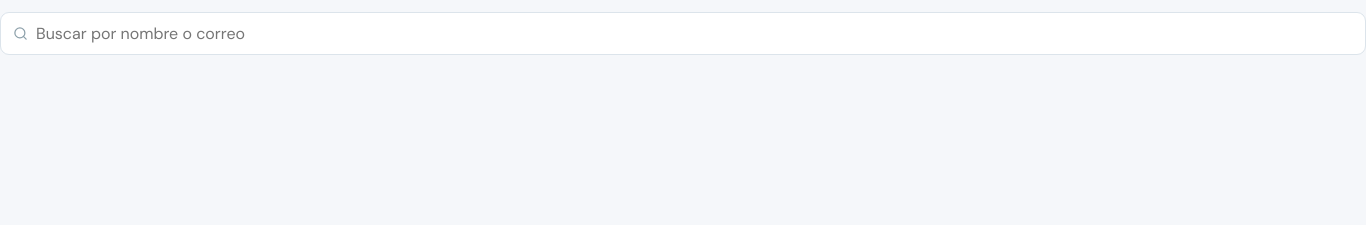
Scenario: ActorPicker › al enfocar muestra los primeros usuarios sin pedir toda la lista
Click the dropdown named "Actor" at [694, 34], box [36,13,1353,54]
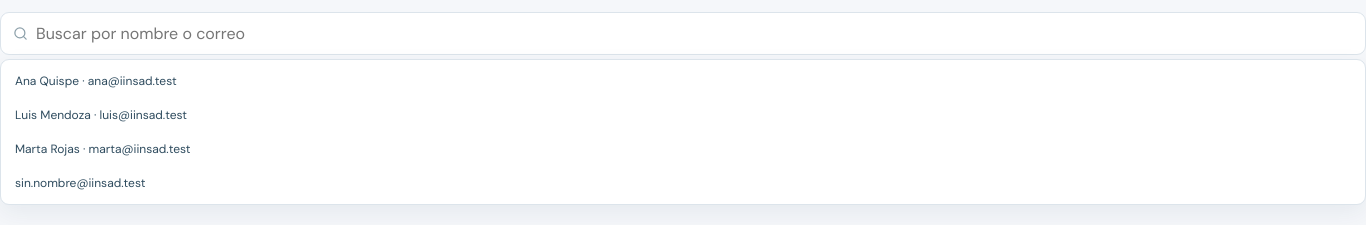
Expected: the option "Ana Quispe · ana@iinsad.test" is shown, [15,73,177,89]
Expected: the option "sin.nombre@iinsad.test" is shown, [15,175,145,191]
